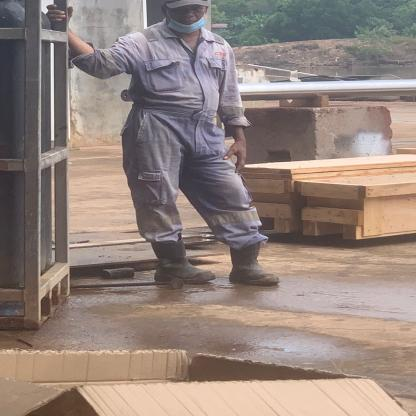bota: (143, 235, 216, 284), (229, 238, 281, 286)
